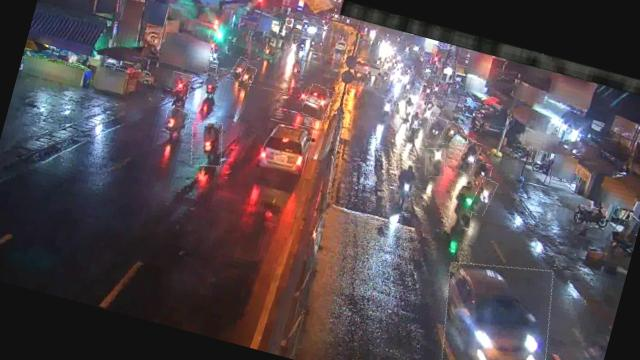Bike: (184, 119, 228, 170), (446, 184, 478, 229), (393, 162, 420, 209), (468, 176, 496, 216), (454, 138, 480, 176), (421, 146, 448, 180), (162, 106, 191, 136), (576, 204, 608, 229), (167, 71, 192, 102), (404, 107, 426, 140), (424, 114, 446, 144), (438, 120, 462, 146), (417, 100, 436, 131), (397, 94, 416, 124), (470, 161, 492, 186), (237, 64, 256, 92), (375, 96, 397, 120), (509, 142, 533, 162), (288, 55, 306, 80), (230, 56, 248, 81), (200, 72, 218, 96)
Car: (428, 249, 564, 360), (256, 118, 314, 180), (300, 84, 334, 121)
